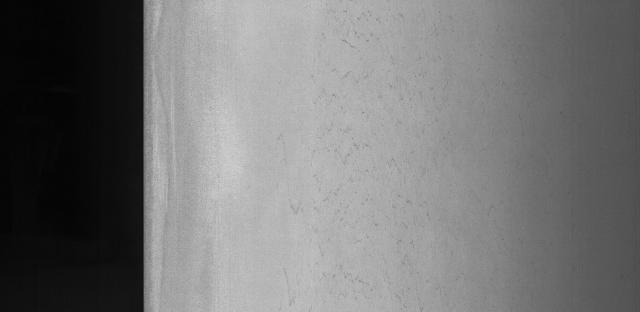silk_spot: (298, 0, 456, 268)
